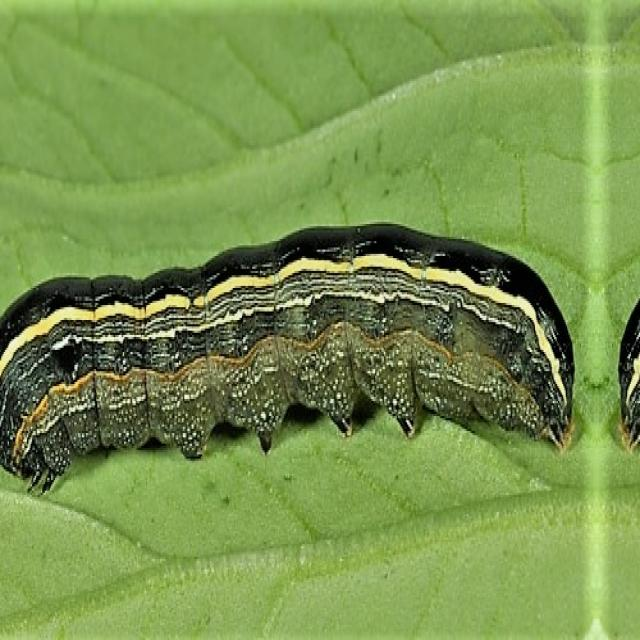Armyworm: (1, 188, 588, 565), (610, 229, 640, 554)
